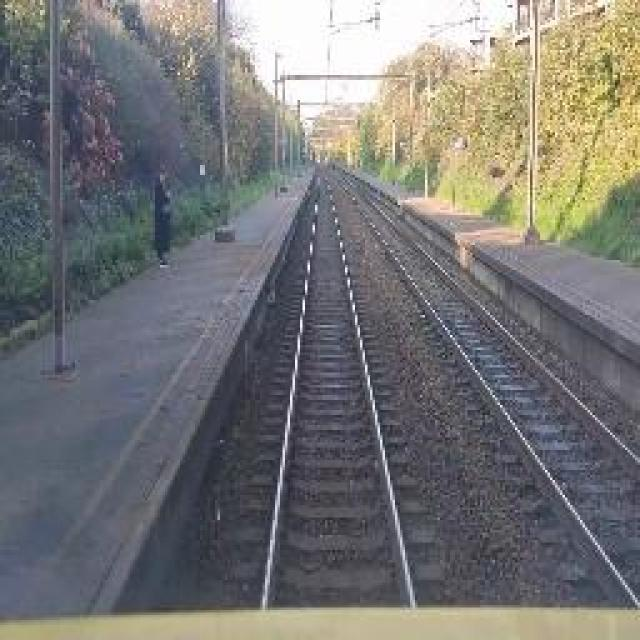rail: (216, 172, 439, 614)
